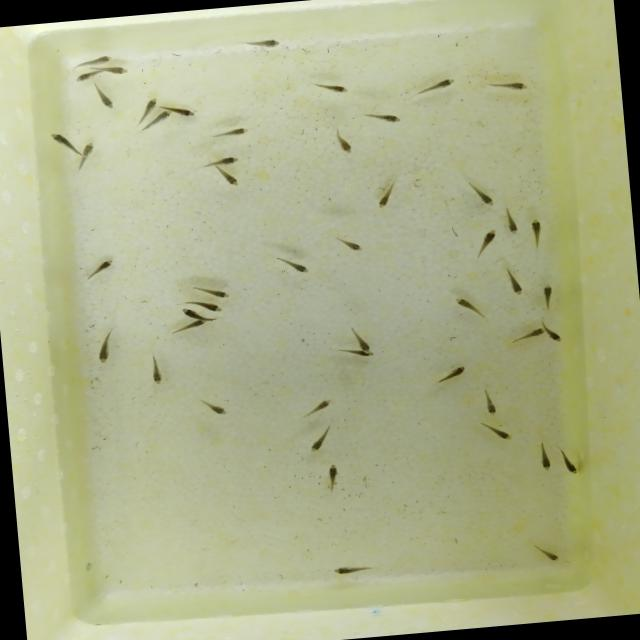fingerling: (89, 328, 120, 368), (278, 251, 316, 279), (76, 257, 115, 284), (472, 224, 502, 258), (416, 75, 462, 97), (296, 395, 338, 418), (202, 122, 255, 140), (487, 76, 537, 95), (143, 356, 168, 393), (191, 281, 232, 303), (363, 107, 408, 127), (329, 126, 356, 158), (74, 140, 101, 172), (308, 76, 353, 95), (525, 214, 549, 249), (532, 540, 562, 568), (240, 36, 292, 52), (320, 462, 346, 494), (344, 324, 375, 350), (300, 430, 331, 456), (64, 52, 114, 68), (330, 561, 380, 577), (196, 396, 232, 418), (428, 364, 471, 382), (130, 94, 162, 118), (470, 184, 500, 209), (136, 112, 170, 134), (197, 153, 241, 170), (196, 297, 230, 319), (450, 292, 480, 316), (168, 319, 212, 335), (511, 326, 546, 346), (45, 129, 74, 153), (562, 446, 580, 484), (372, 182, 398, 208), (485, 421, 512, 444), (347, 343, 378, 363), (536, 444, 554, 477), (332, 236, 364, 254), (536, 280, 556, 308), (96, 85, 115, 114), (64, 70, 98, 85), (504, 209, 522, 237), (175, 304, 204, 321), (165, 103, 197, 118), (220, 168, 240, 192), (506, 274, 524, 298), (483, 392, 499, 419), (106, 64, 132, 78), (548, 323, 562, 345)
